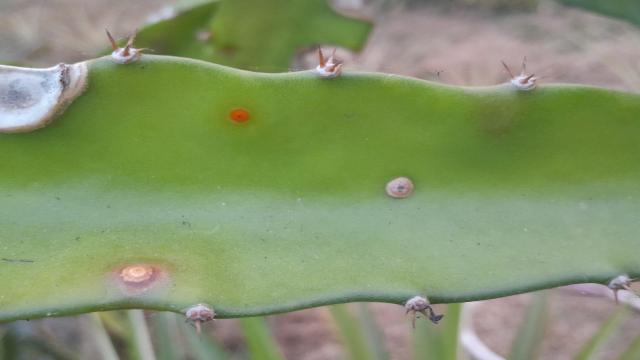stemcanker: (105, 260, 172, 300), (219, 100, 259, 136), (384, 173, 419, 204)
